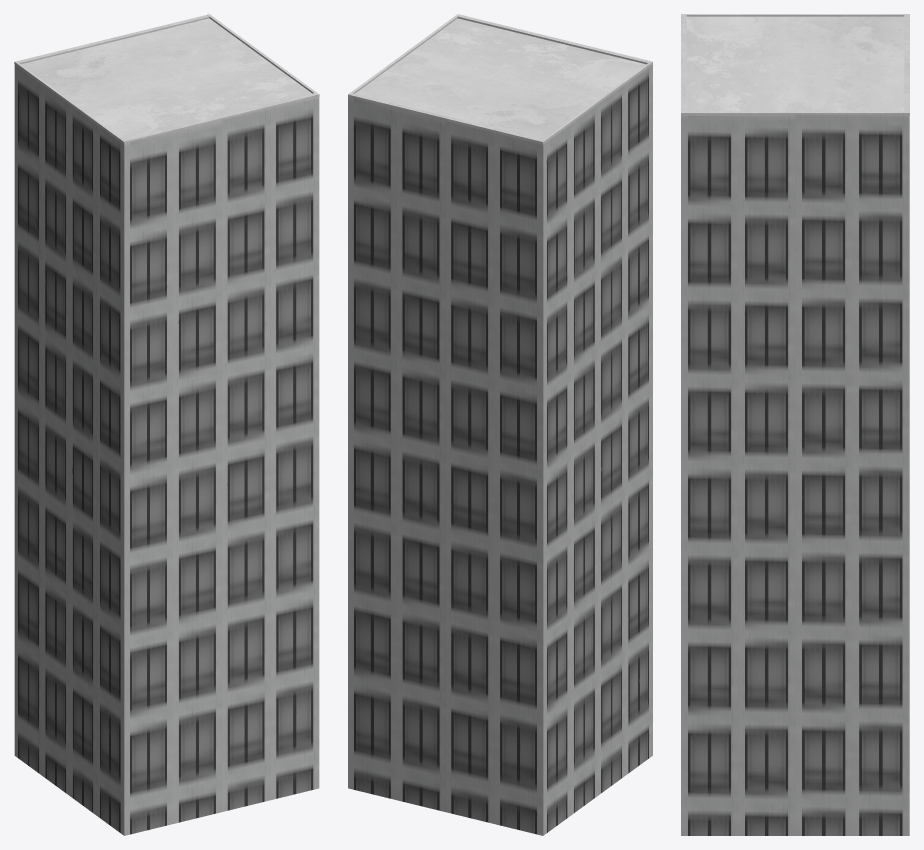
File: build5final.fbx
3 renders of one model, left to right at view 1: azimuth 30°, elevation 25°; view 2: azimuth 150°, elevation 25°; view 3: azimuth 270°, elevation 25°, orthographic. The views are drawn at different scales.
Visible parts, largest first — view 1: Construction_Building; view 2: Construction_Building; view 3: Construction_Building.
Part boxes in pixels (left/top/right/bottom): Construction_Building: left=14, top=14, right=319, bottom=835; Construction_Building: left=348, top=14, right=652, bottom=835; Construction_Building: left=681, top=14, right=909, bottom=835.
Bounding box in the file's own units: 356 × 1211 × 347.
Materials: 1 (1 with a texture image).
